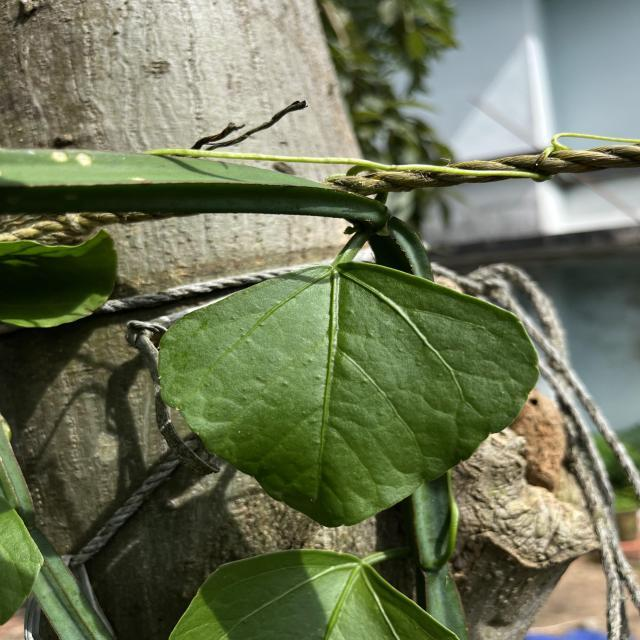Cissus quadrangularis: (154, 260, 542, 530)
